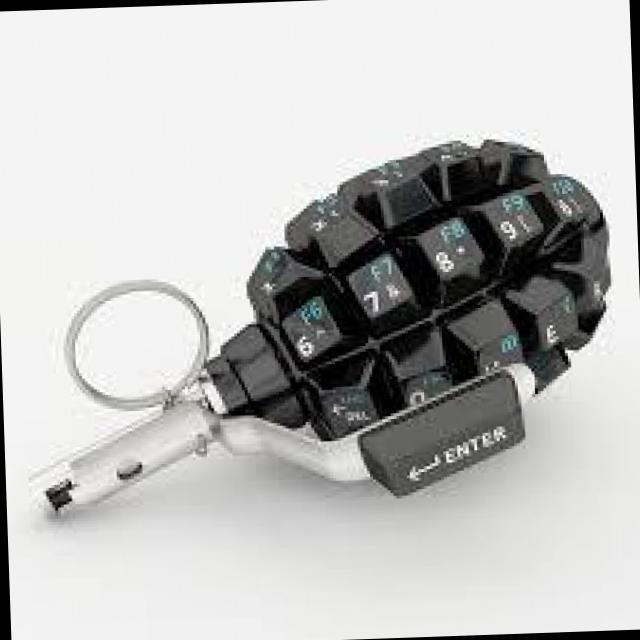grenade: (18, 125, 639, 522)
